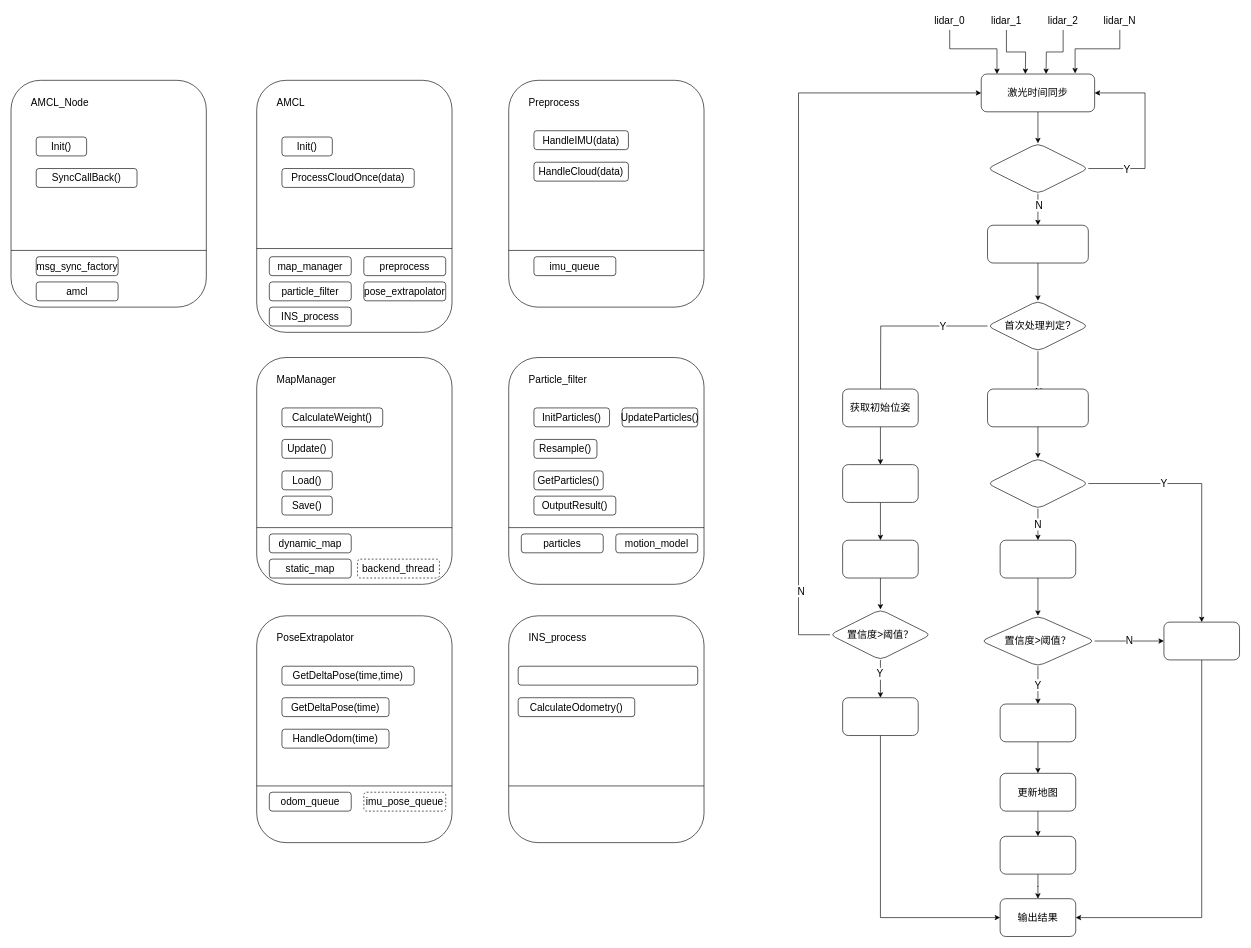
The diagram is 1251 pixels wide and 948 high, and some of its shapes have lost their labels. The shapes that lost their labels are listed below. From the top down, each one's centre as x and y in pixels, then its label:
At (x=1037, y=168): "时间间隔判定？".
At (x=1037, y=244): "激光去畸变&重力对齐".
At (x=1037, y=407): "PoseExtrapolator推导位姿".
At (x=880, y=483): "粒子初始化".
At (x=1037, y=483): "静止判定?".
At (x=880, y=559): "权重计算&重采样*5次&输出".
At (x=1037, y=559): "粒子更新&权重计算&聚类&输出".
At (x=1201, y=640): "采用惯导结果&更新累计里程".
At (x=608, y=675): "ProcessOutputPose(pose,delta_pose)".
At (x=880, y=716): "首次处理成功&更新状态位".
At (x=1037, y=722): "采纳滤波结果".
At (x=1037, y=855): "粒子重采样".
